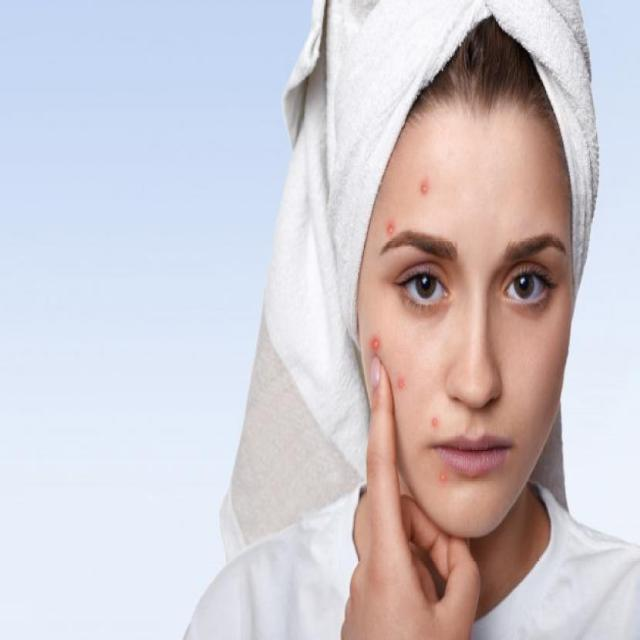acne: (364, 332, 450, 490), (382, 177, 435, 243)
